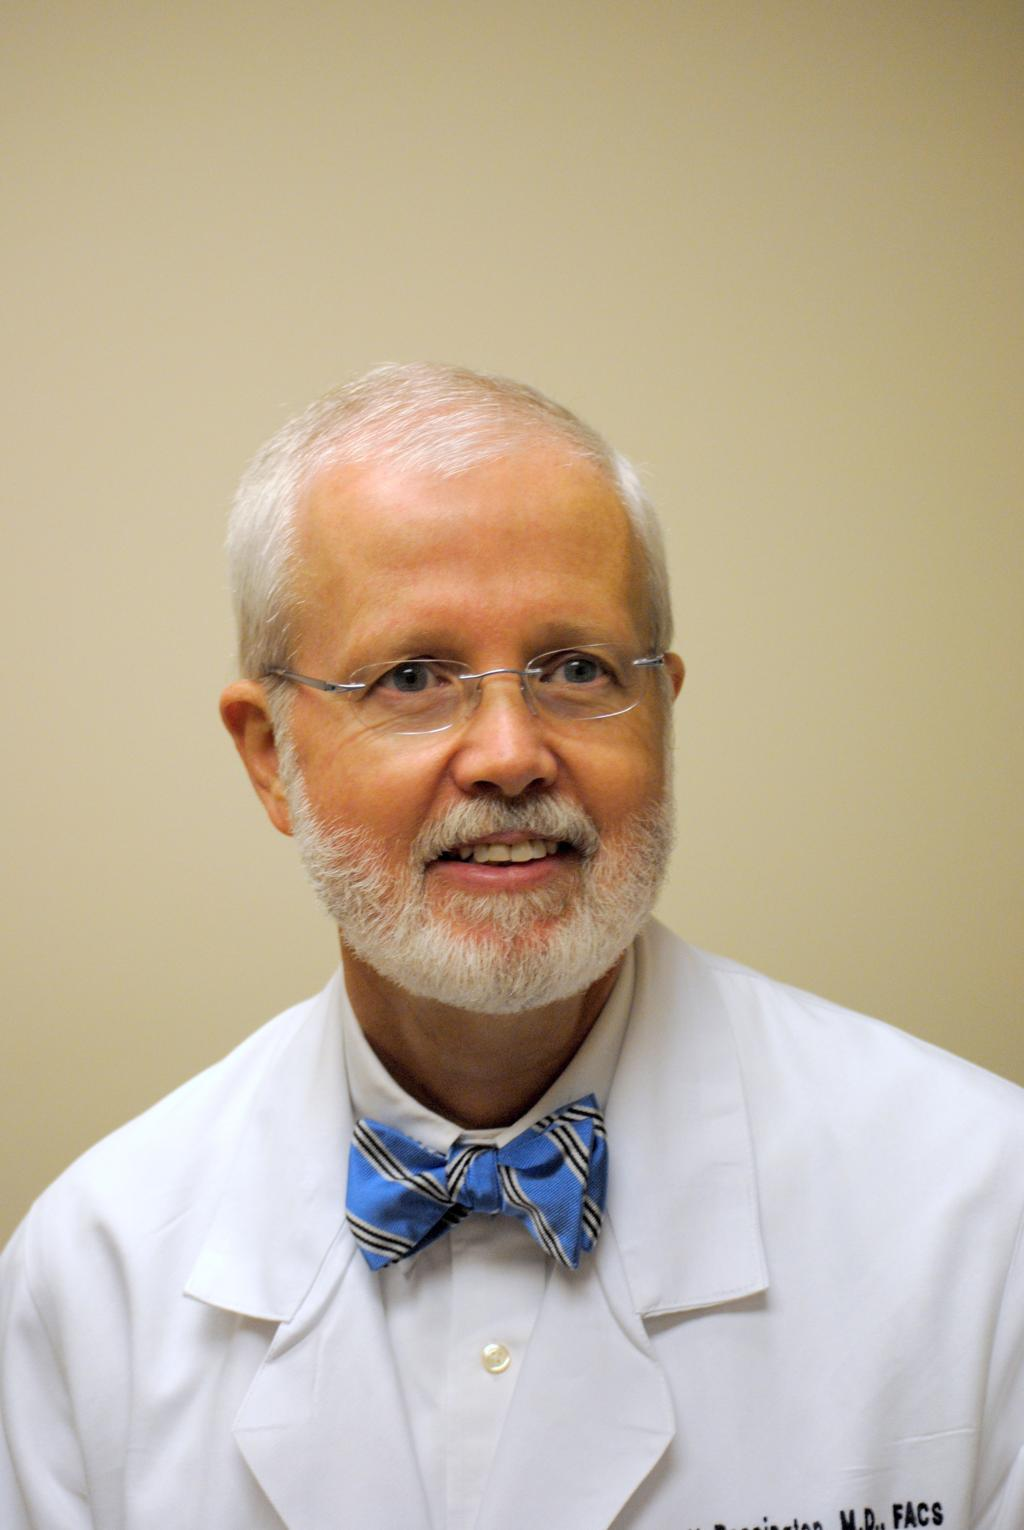face: (302, 499, 675, 998)
